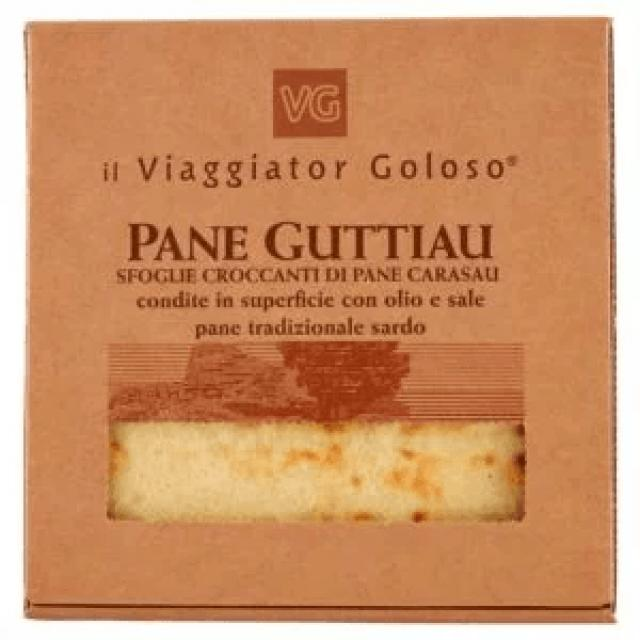Bread loaf: (23, 23, 614, 625)
